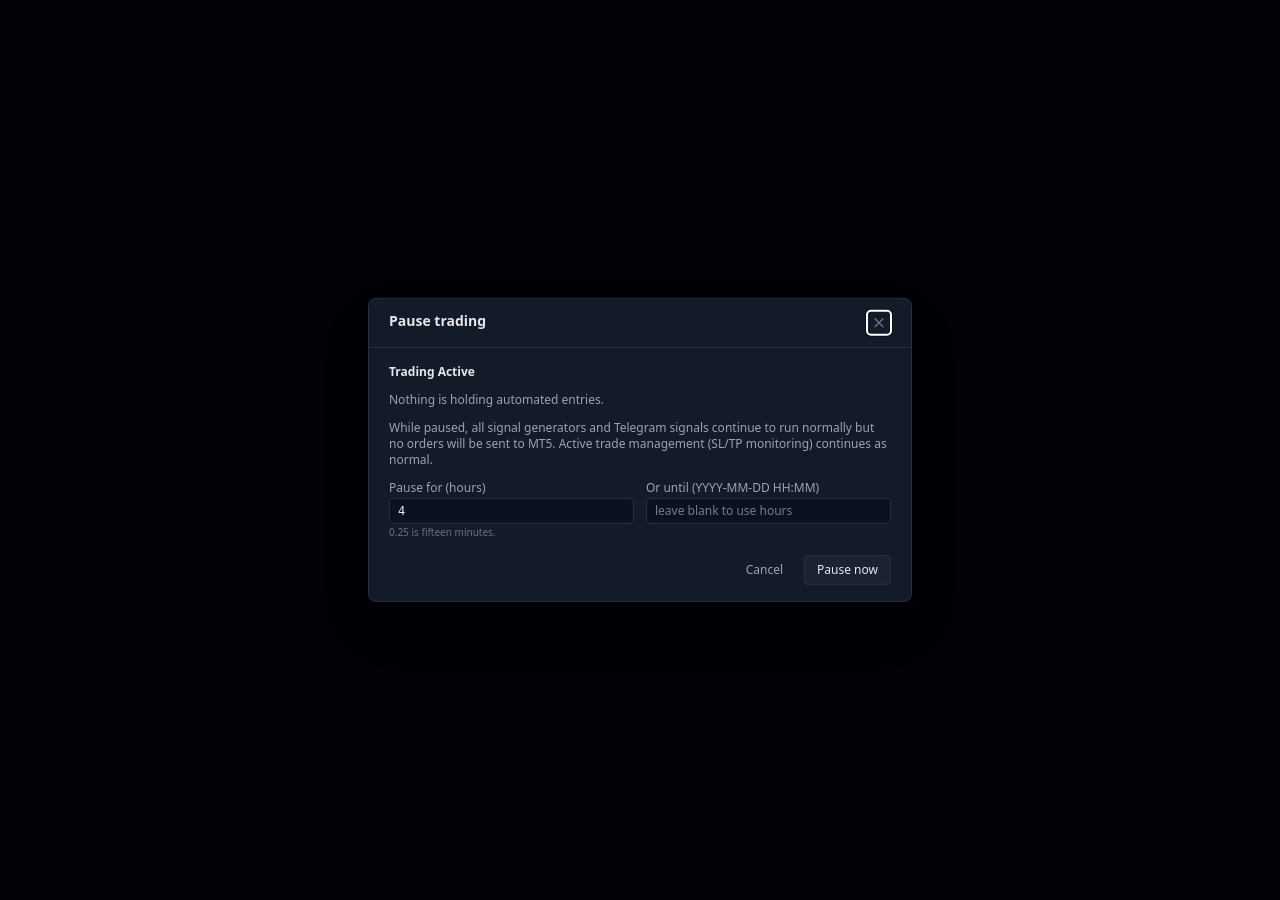
Test case: when nothing is holding entries › refuses an unparseable moment rather than silently pausing for 4 hours
The image size is (1280, 900).
Type "next tuesday" into the field labelled "Or until (YYYY-MM-DD HH:MM)" at (768, 511), box [646, 498, 891, 524]
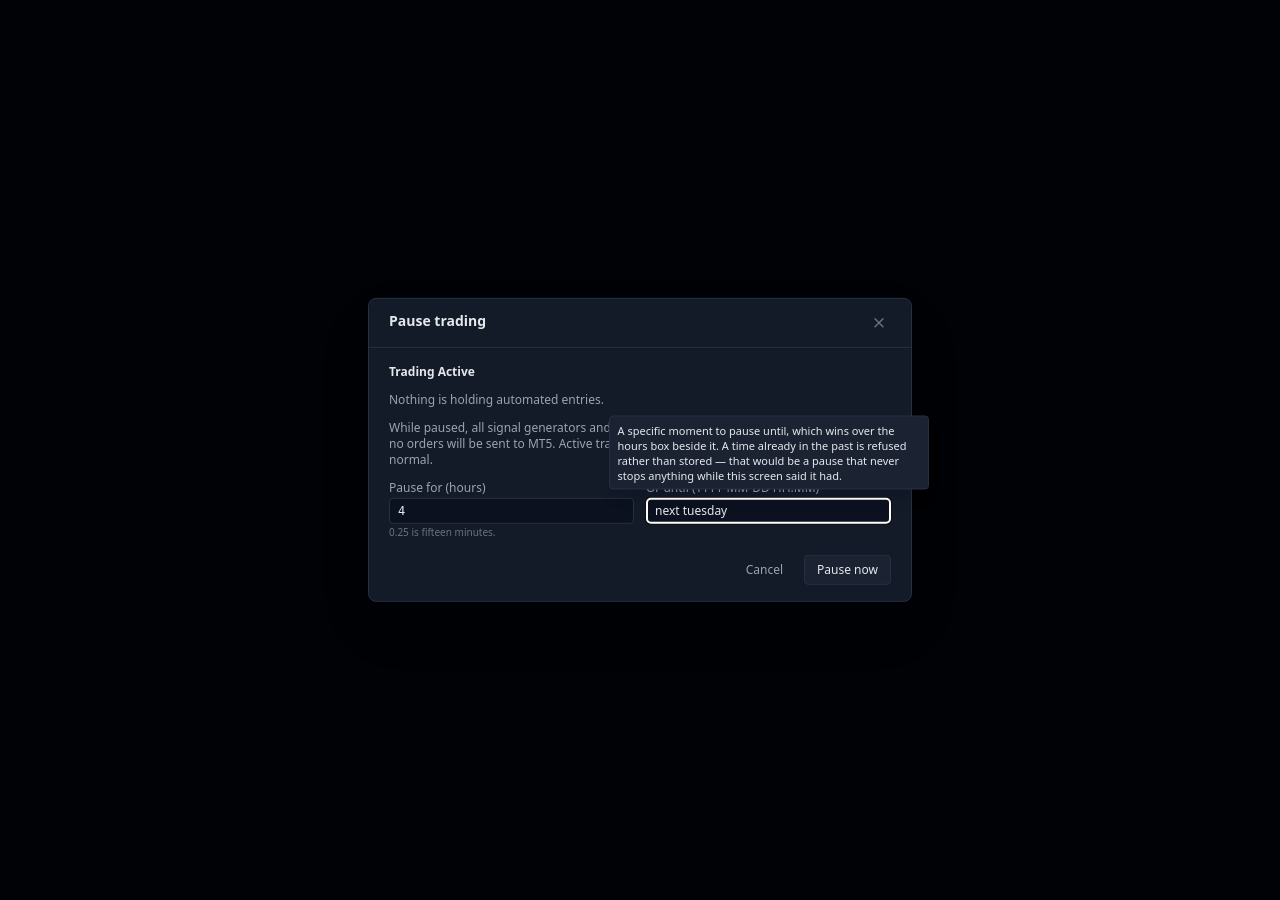
Click the button "Pause now" at (848, 570), box [804, 555, 891, 585]
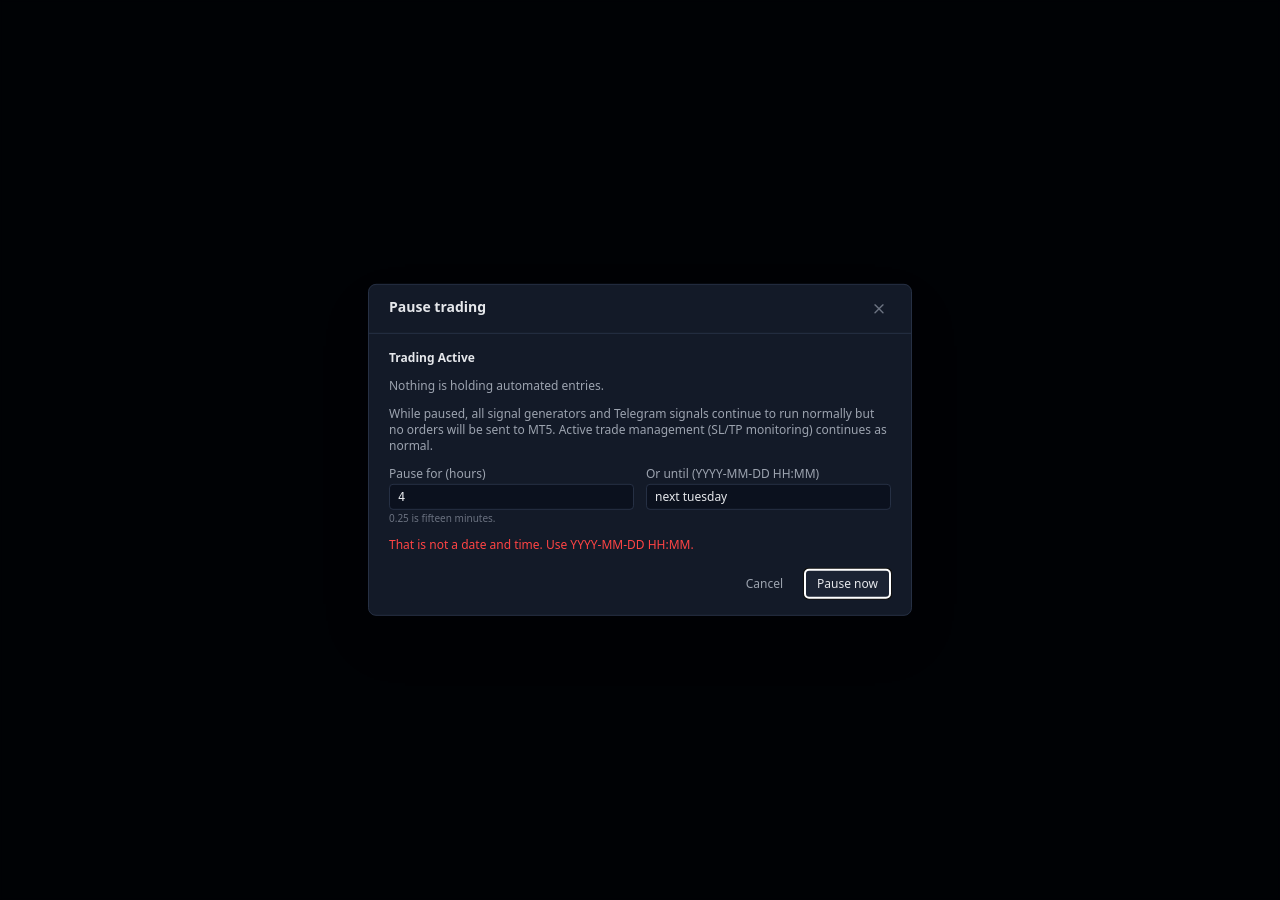
Check: the message shows "not a date and time", box [389, 536, 694, 553]
